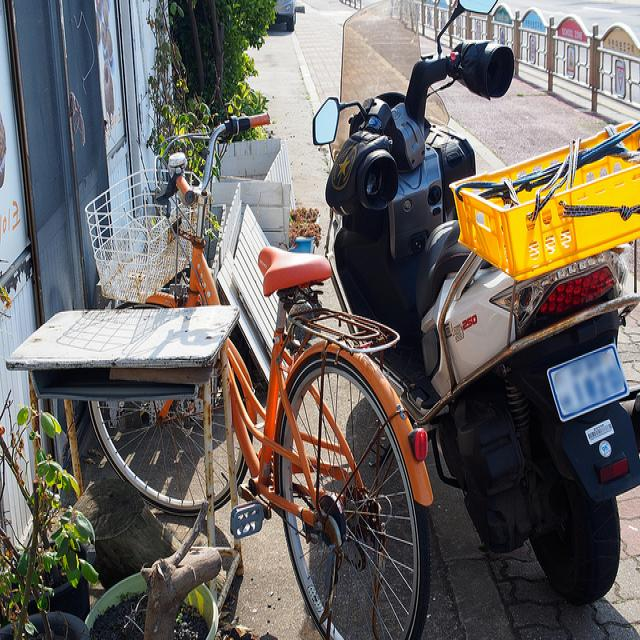motor: (310, 2, 640, 603)
